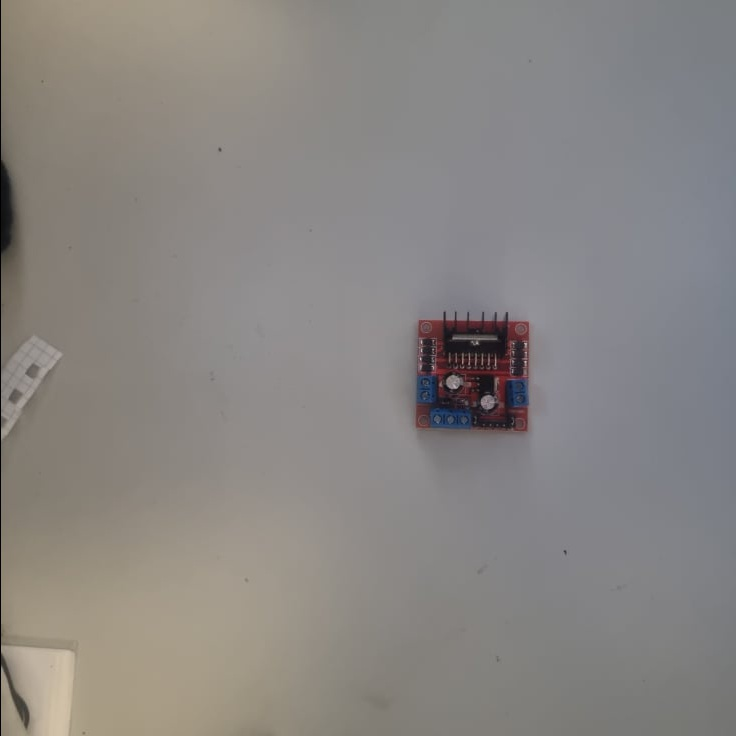MOTOR: (409, 311, 530, 431)
